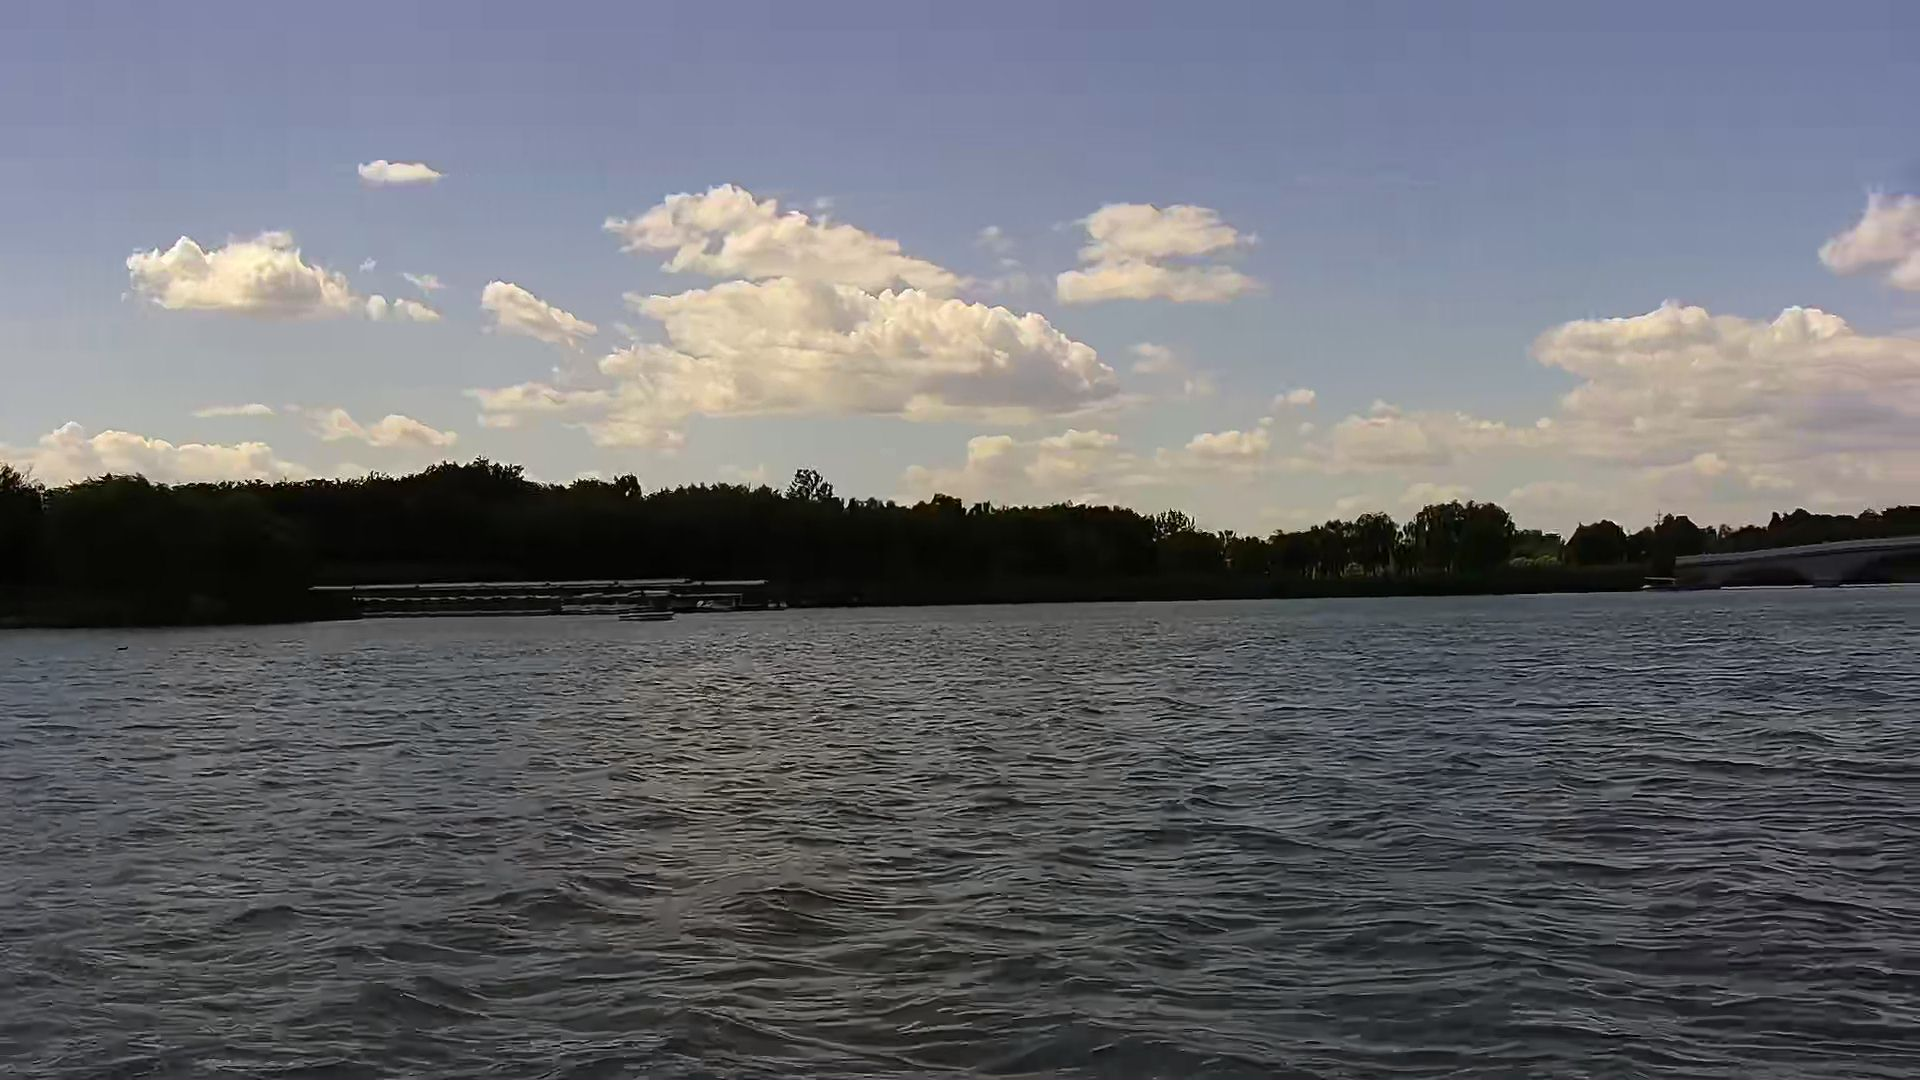harbor: (316, 572, 777, 616)
